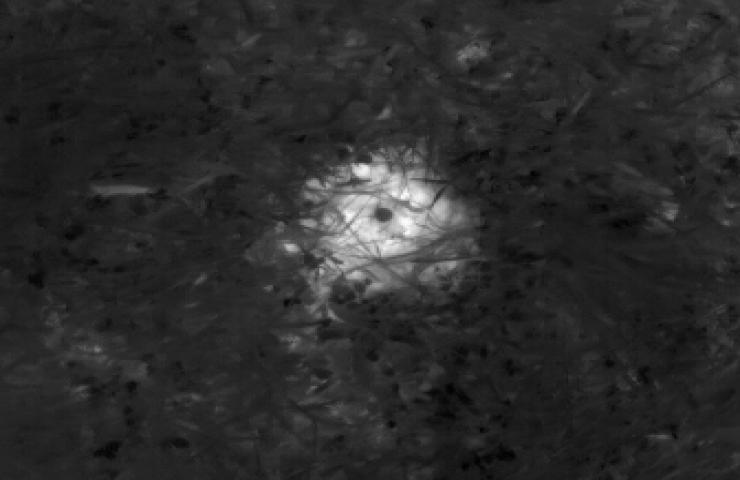landmines: (285, 140, 472, 294)
